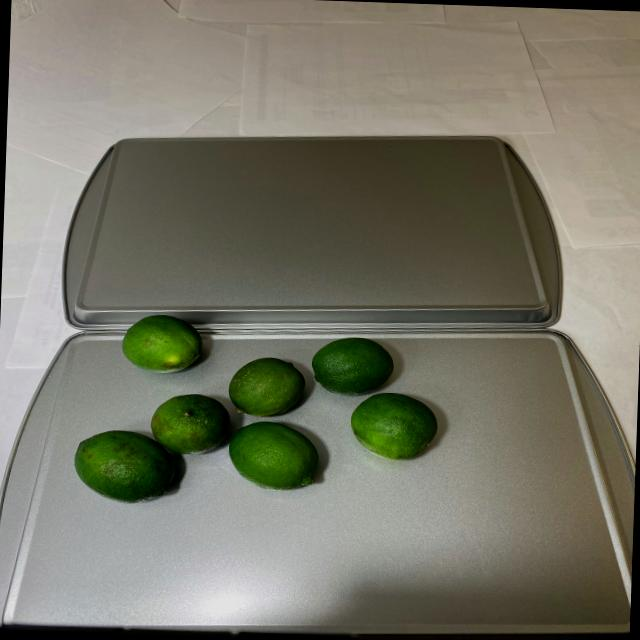lemon: (69, 312, 440, 509)
